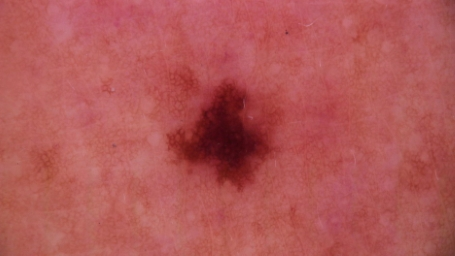nevus: (167, 82, 274, 186)
